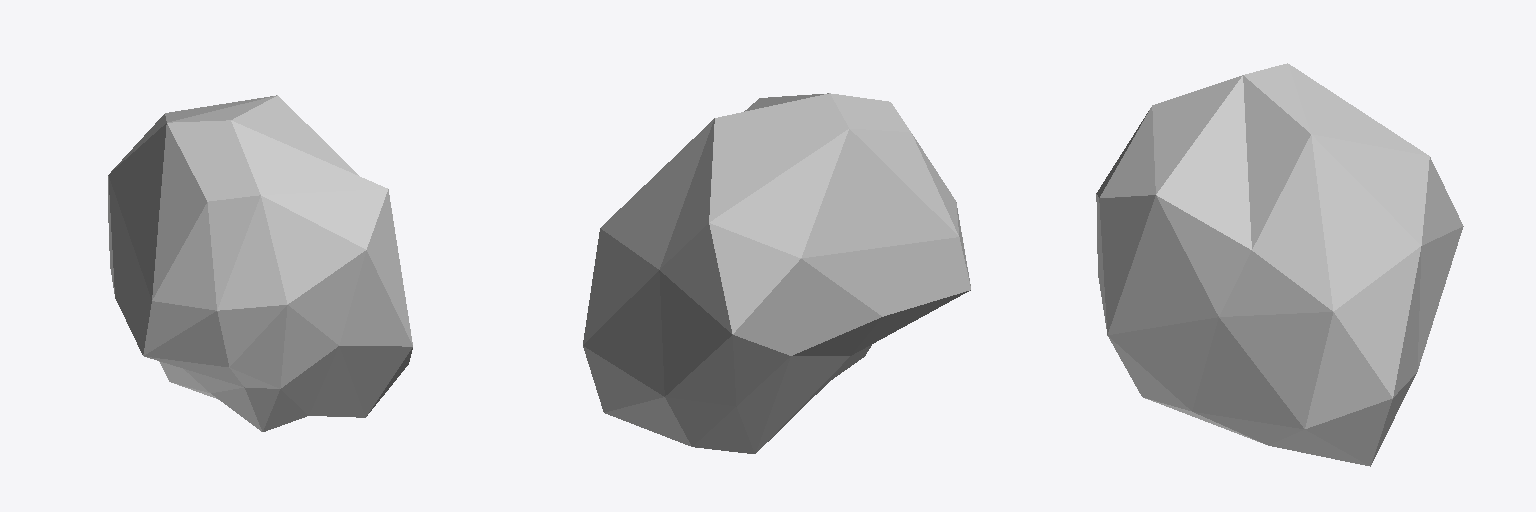
File: Asteroid2.obj
The picture shows the model from 3 angles: view 1: azimuth 30°, elevation 25°; view 2: azimuth 150°, elevation 25°; view 3: azimuth 270°, elevation 25°; orthographic projection.
Parts seen in each view (by area): view 1: Asteroid_4; view 2: Asteroid_4; view 3: Asteroid_4.
Part boxes in pixels (x1,y1,x2,y2): Asteroid_4: (108,95,412,431); Asteroid_4: (583,93,970,453); Asteroid_4: (1096,63,1463,466).
Size of the model in its own units: 80.78 by 77.96 by 81.22.